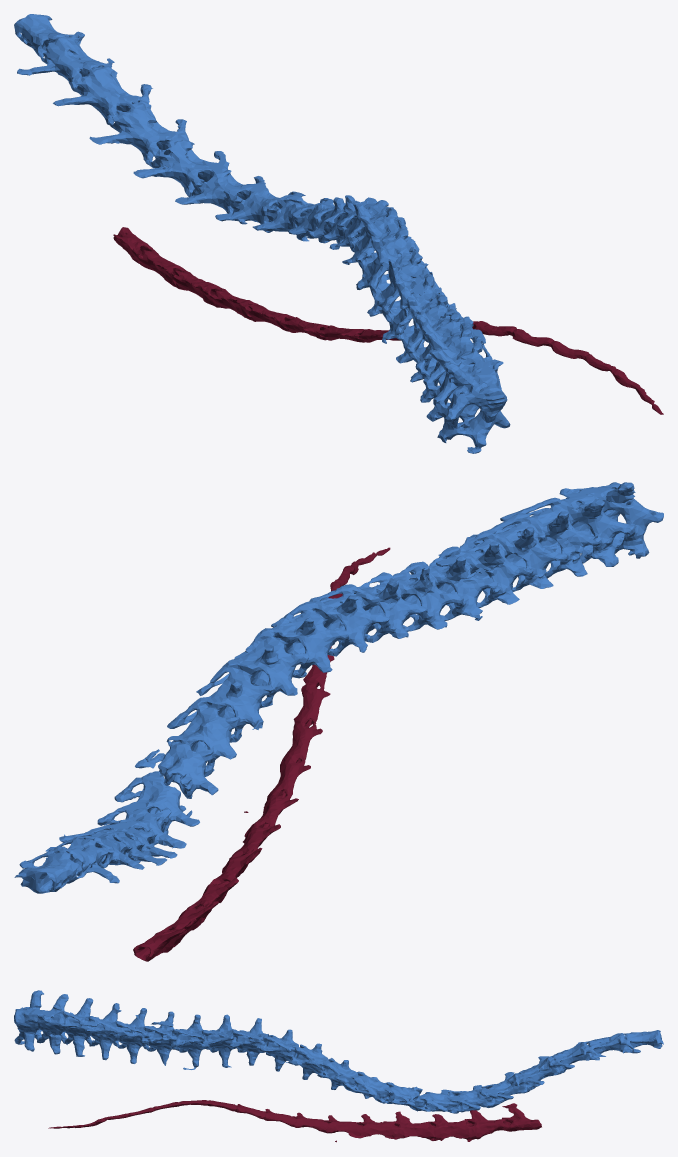
Rendered from tail.glb.
3 views of the same model, one above another, from view 1: azimuth 30°, elevation 25°; view 2: azimuth 150°, elevation 25°; view 3: azimuth 270°, elevation 25° (orthographic). The views are drawn at different scales.
Visible parts, largest first — view 1: Shape_IndexedFaceSet.001, Shape_IndexedFaceSet; view 2: Shape_IndexedFaceSet.001, Shape_IndexedFaceSet; view 3: Shape_IndexedFaceSet.001, Shape_IndexedFaceSet.
Part boxes in pixels (x1,y1,x2,y2): Shape_IndexedFaceSet.001: (14,14,510,453); Shape_IndexedFaceSet: (113,227,663,414); Shape_IndexedFaceSet.001: (14,482,663,893); Shape_IndexedFaceSet: (133,547,390,961); Shape_IndexedFaceSet.001: (14,990,663,1113); Shape_IndexedFaceSet: (48,1100,541,1142).
Size of the model in its own units: 0.0229 by 0.0176 by 0.0833.
